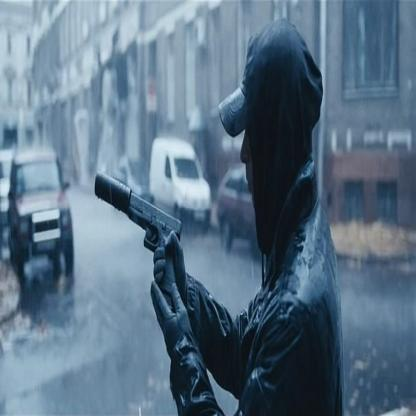gun: (90, 159, 184, 310)
